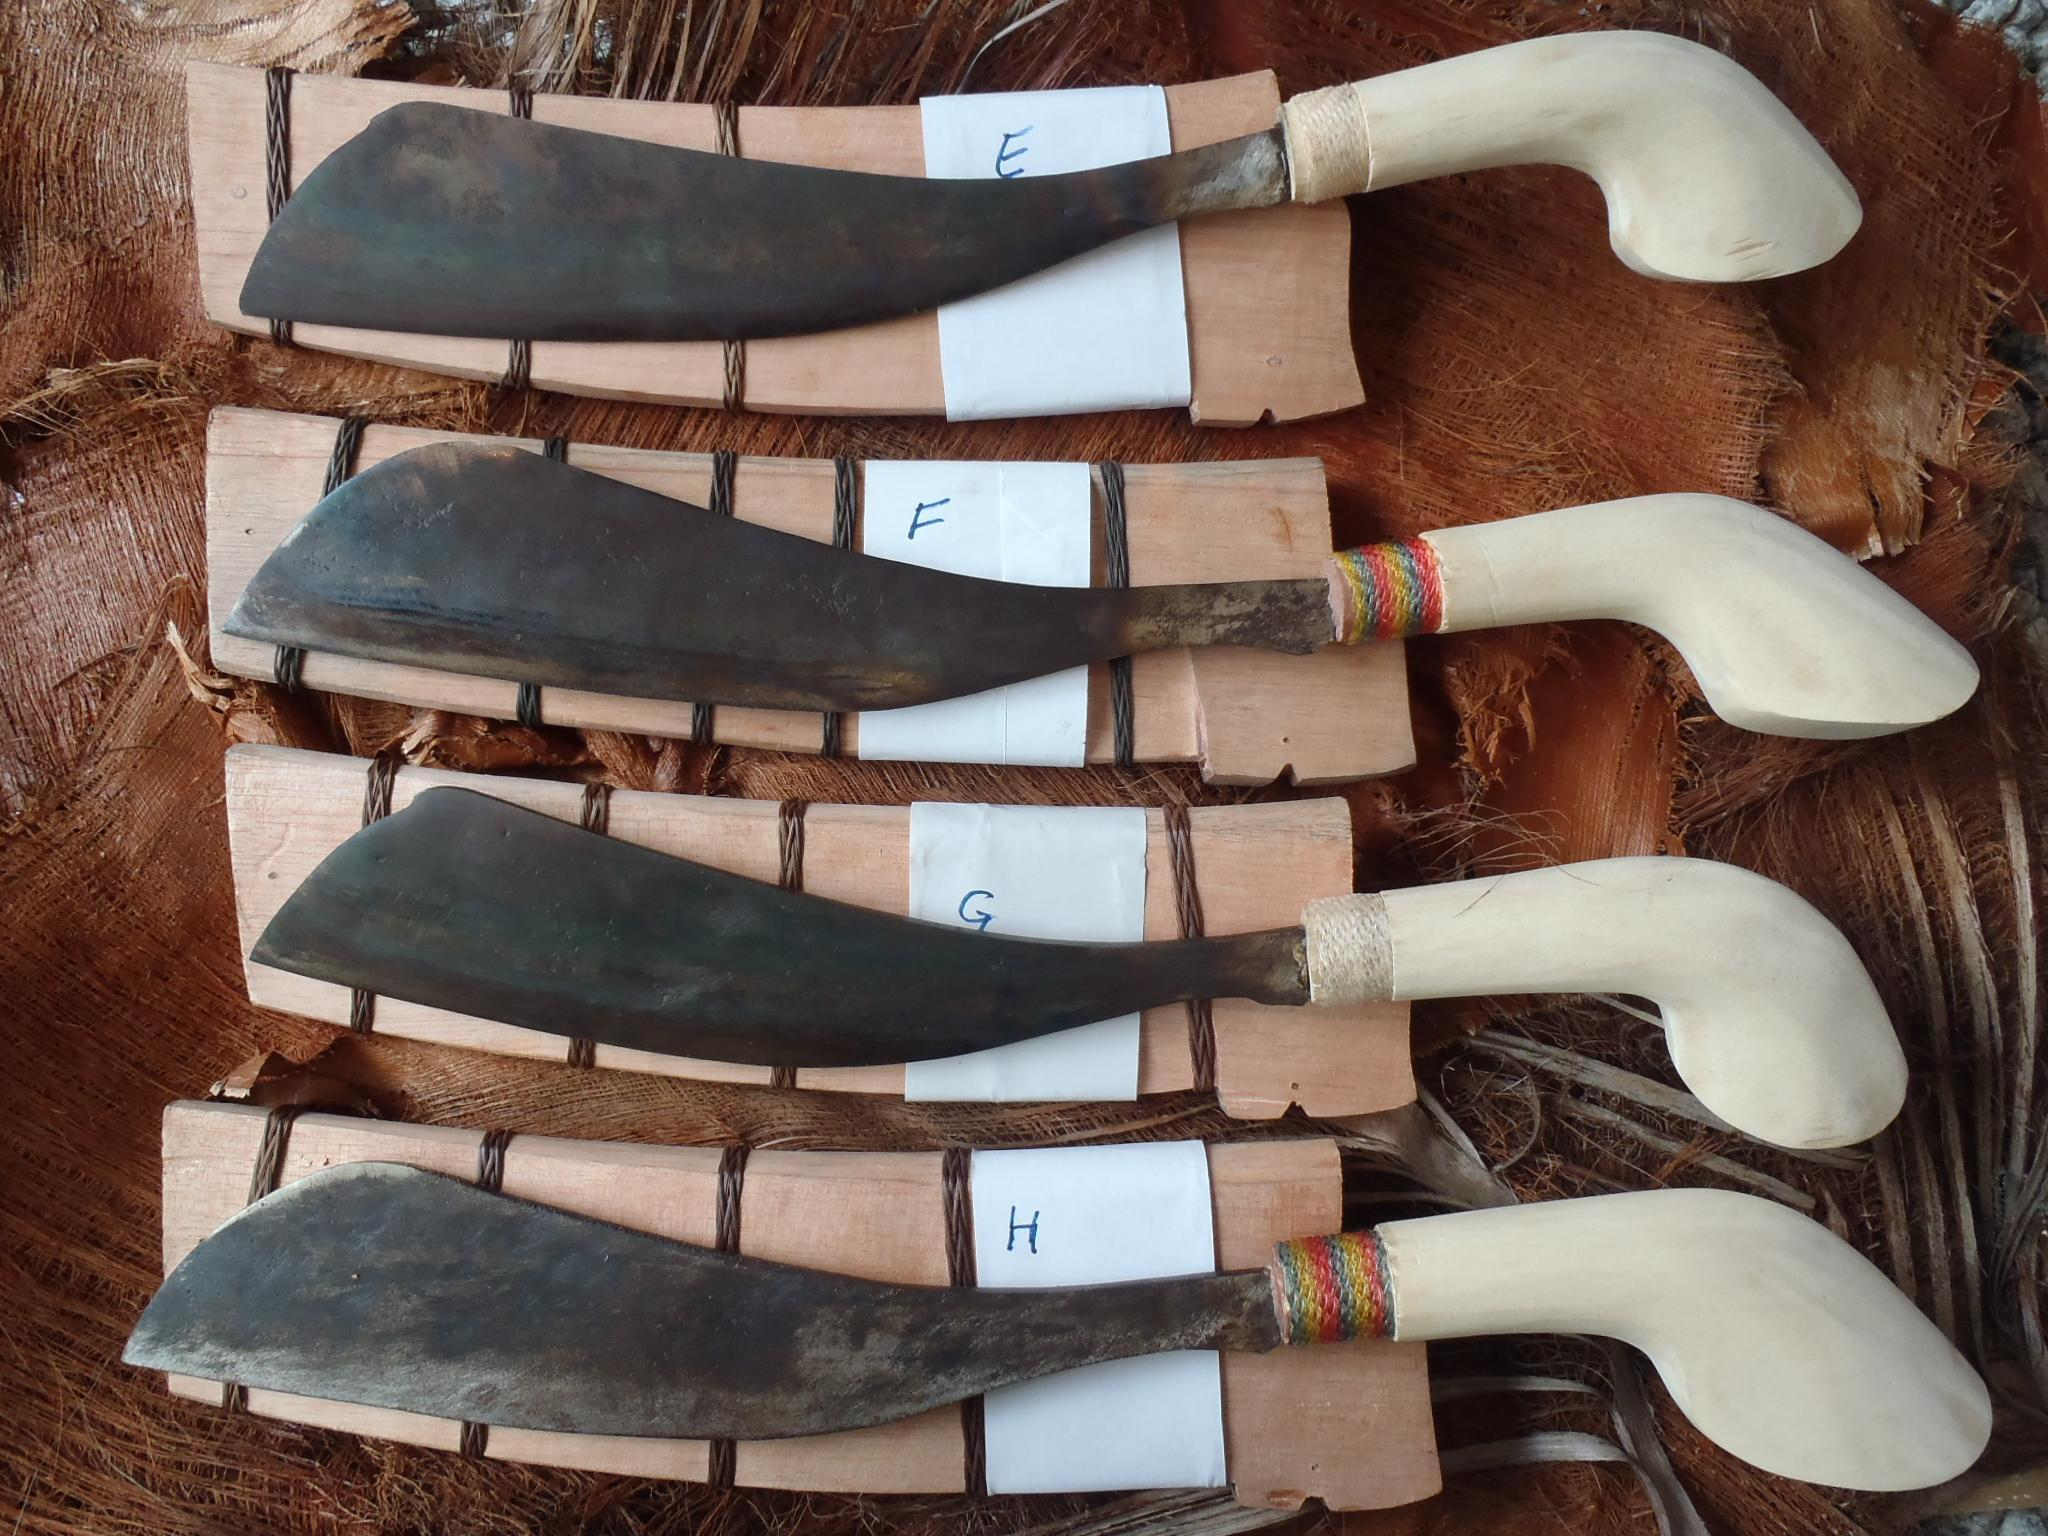facao: (132, 1155, 2006, 1501), (255, 786, 1922, 1154), (235, 437, 1990, 768), (242, 23, 1893, 368)
